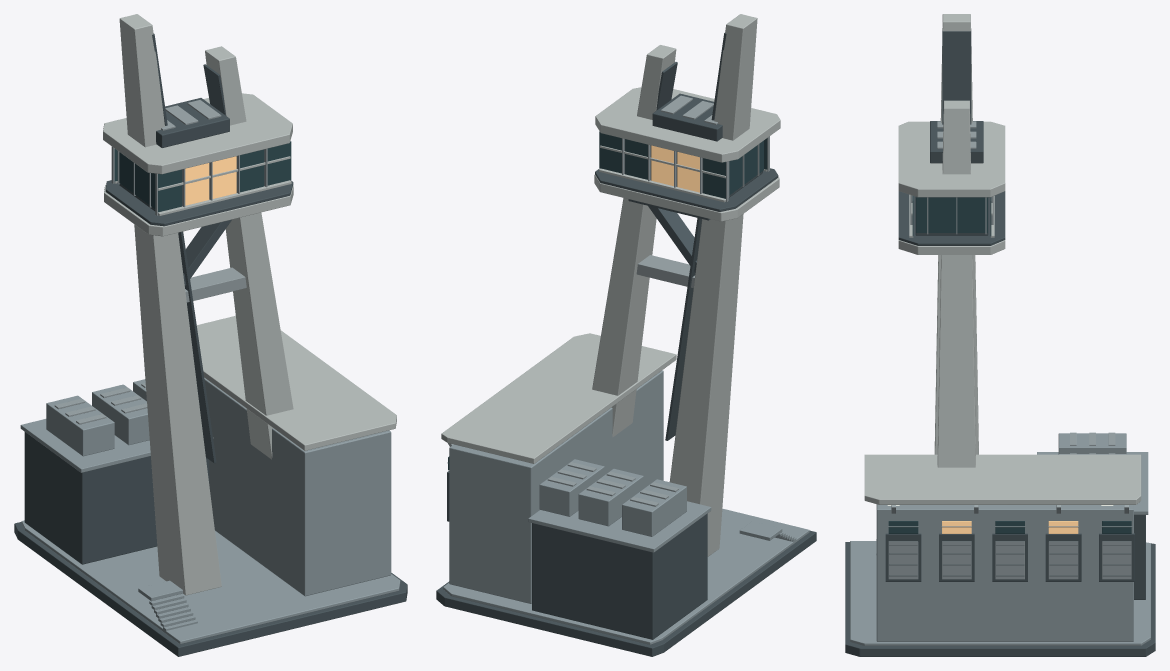
File: Nocturne_SplitSignal_Mast.fbx
3 renders of one model, left to right at view 1: azimuth 30°, elevation 25°; view 2: azimuth 150°, elevation 25°; view 3: azimuth 270°, elevation 25°, orthographic. The views are drawn at different scales.
Parts seen in each view (by area): view 1: Nocturne_SplitSignal_Mast; view 2: Nocturne_SplitSignal_Mast; view 3: Nocturne_SplitSignal_Mast.
Boxes of the visible parts, x1,y1,x2,y2 form: Nocturne_SplitSignal_Mast: [14, 14, 407, 656]; Nocturne_SplitSignal_Mast: [436, 14, 816, 656]; Nocturne_SplitSignal_Mast: [845, 14, 1155, 656].
Bounding box in the file's own units: 52.07 × 123 × 64.
